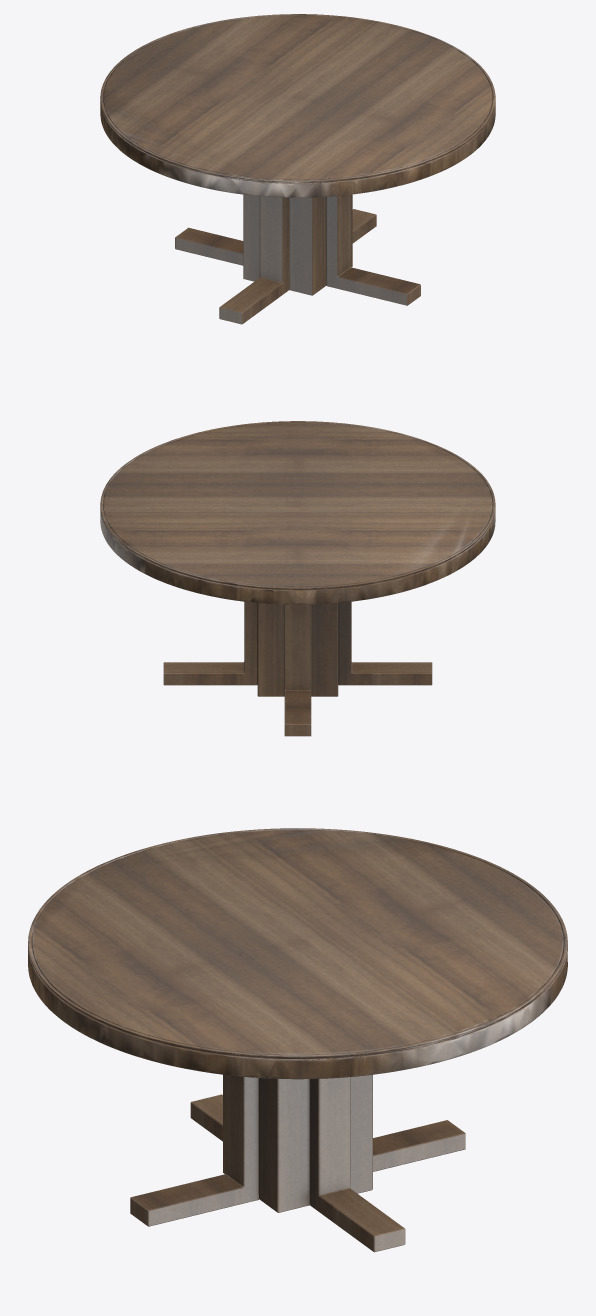
The model's file is raw_model.obj.
The picture shows the model from 3 angles, top to bottom: view 1: azimuth 30°, elevation 25°; view 2: azimuth 150°, elevation 25°; view 3: azimuth 270°, elevation 25°; orthographic projection. The views are drawn at different scales.
Visible parts, largest first — view 1: solid; view 2: solid; view 3: solid.
Part boxes in pixels (x1,y1,x2,y2): solid: (100, 14, 495, 324); solid: (100, 421, 495, 736); solid: (28, 828, 567, 1252).
Bounding box in the file's own units: 1.55 × 0.72 × 1.55.
Materials: 1 (1 with a texture image).
